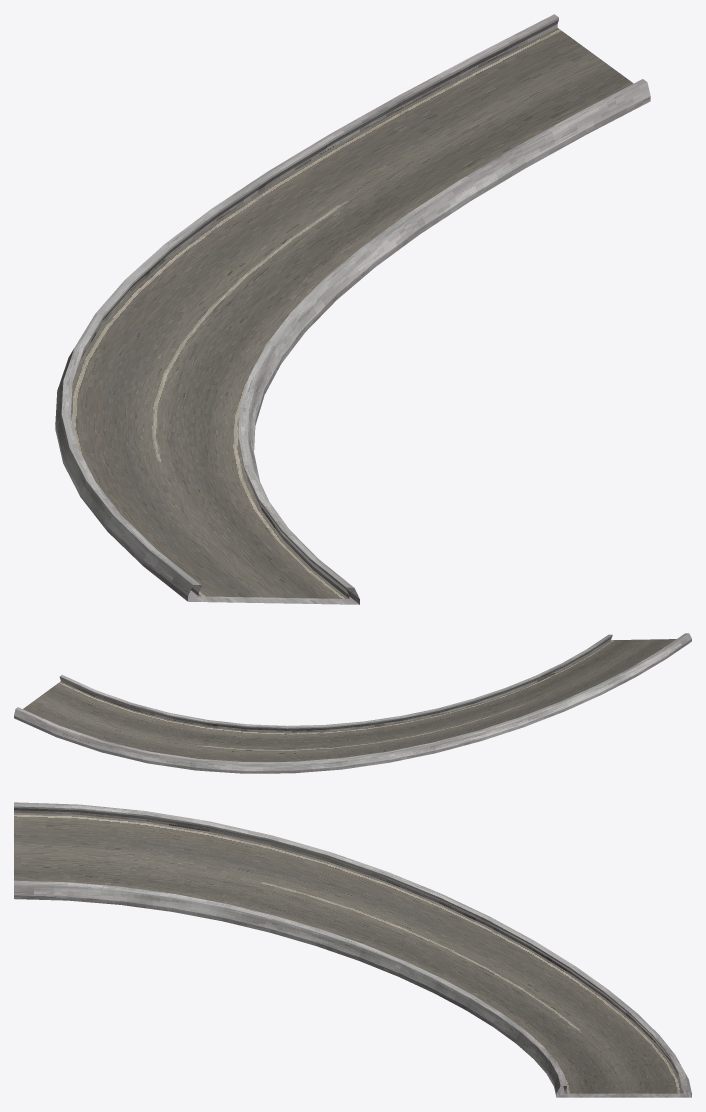
File: turn-right5x5.glb
The picture shows the model from 3 angles, top to bottom: view 1: azimuth 30°, elevation 25°; view 2: azimuth 150°, elevation 25°; view 3: azimuth 270°, elevation 25°; orthographic projection. The views are drawn at different scales.
Parts seen in each view (by area): view 1: road-Turn-HalfBankedRight-BiSlopeUp-Up1-Right-Size5; view 2: road-Turn-HalfBankedRight-BiSlopeUp-Up1-Right-Size5; view 3: road-Turn-HalfBankedRight-BiSlopeUp-Up1-Right-Size5.
Part boxes in pixels (x1=…): road-Turn-HalfBankedRight-BiSlopeUp-Up1-Right-Size5: x1=55, y1=14, x2=650, y2=604; road-Turn-HalfBankedRight-BiSlopeUp-Up1-Right-Size5: x1=14, y1=633, x2=691, y2=773; road-Turn-HalfBankedRight-BiSlopeUp-Up1-Right-Size5: x1=14, y1=802, x2=691, y2=1097.
Size of the model in its own units: 5 by 0.4259 by 5.
2 materials, 2 textured.
